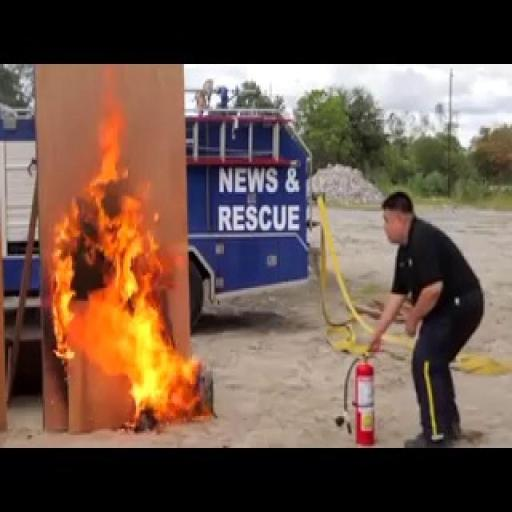smoke: (48, 134, 214, 432)
